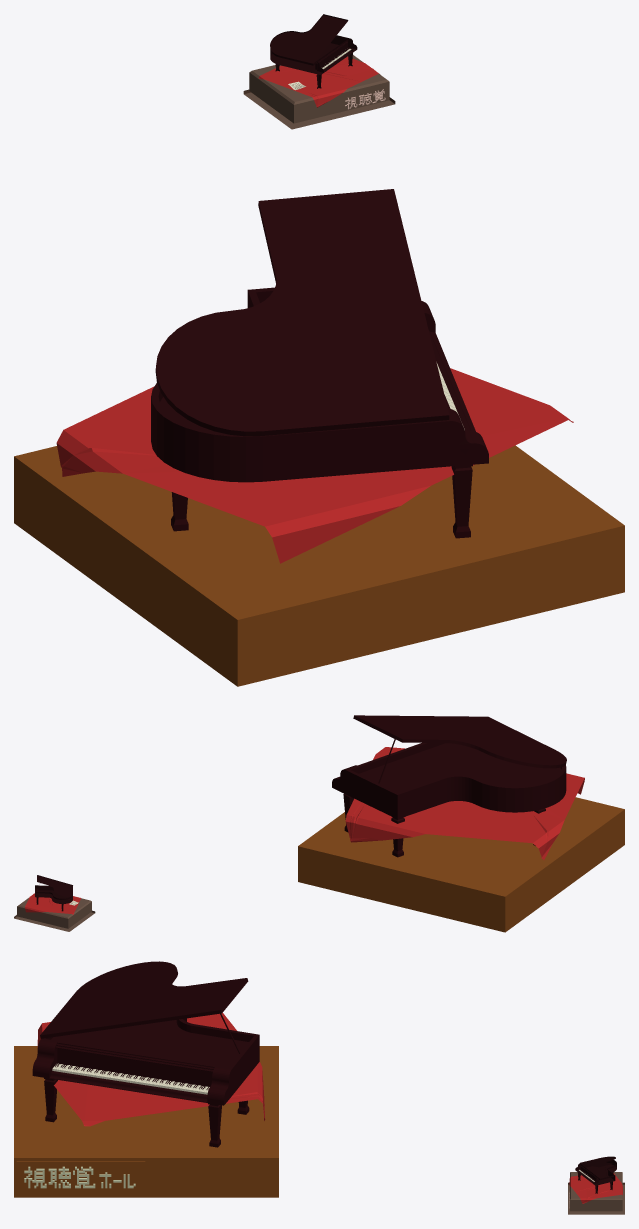
The model's file is piano3.glb.
The picture shows the model from 3 angles, top to bottom: view 1: azimuth 30°, elevation 25°; view 2: azimuth 150°, elevation 25°; view 3: azimuth 270°, elevation 25°; orthographic projection. The views are drawn at different scales.
Visible parts, largest first — view 1: piano, 平面.002, Piano; view 2: piano, 平面.002, Piano; view 3: piano, 平面.002, Piano.
Boxes of the visible parts, x1,y1,x2,y2 form: piano: (14, 189, 624, 686); 平面.002: (56, 368, 573, 563); Piano: (243, 14, 395, 129); piano: (298, 715, 624, 932); 平面.002: (345, 747, 584, 859); Piano: (14, 875, 95, 931); piano: (14, 961, 278, 1197); 平面.002: (37, 1013, 265, 1126); Piano: (568, 1156, 624, 1214).
Bounding box in the file's own units: 49.07 × 21.27 × 68.79.
